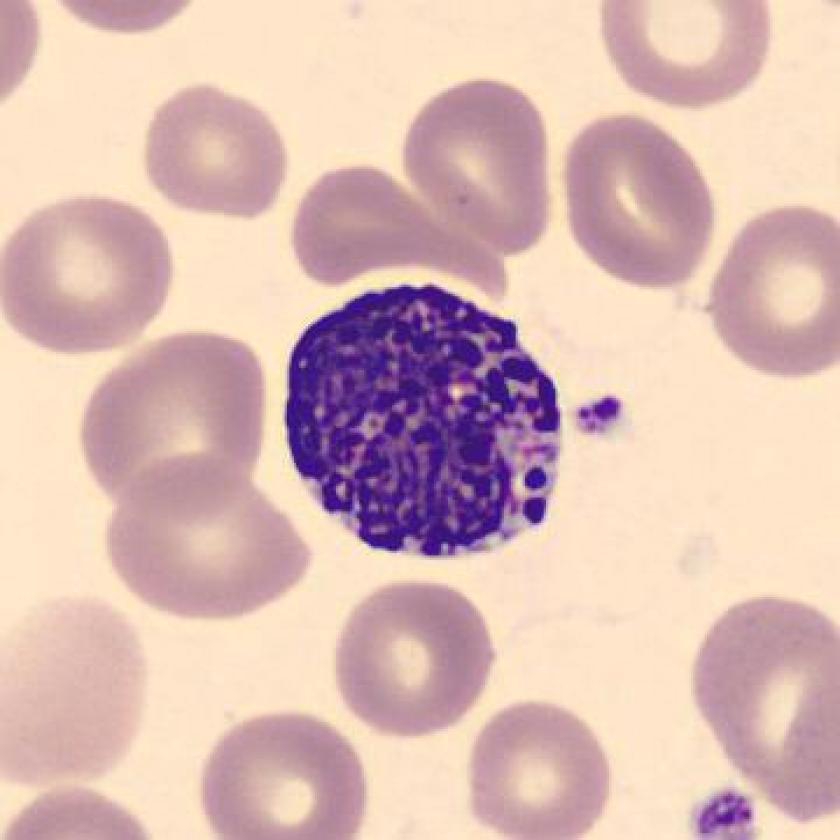basophil: (269, 274, 587, 582)
